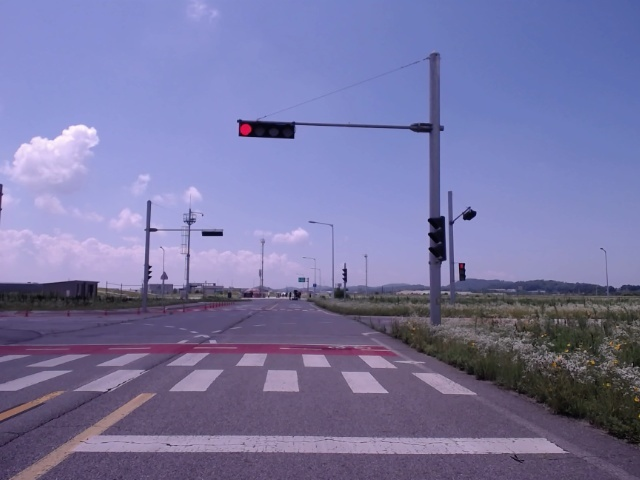red_4: (239, 120, 294, 138)
